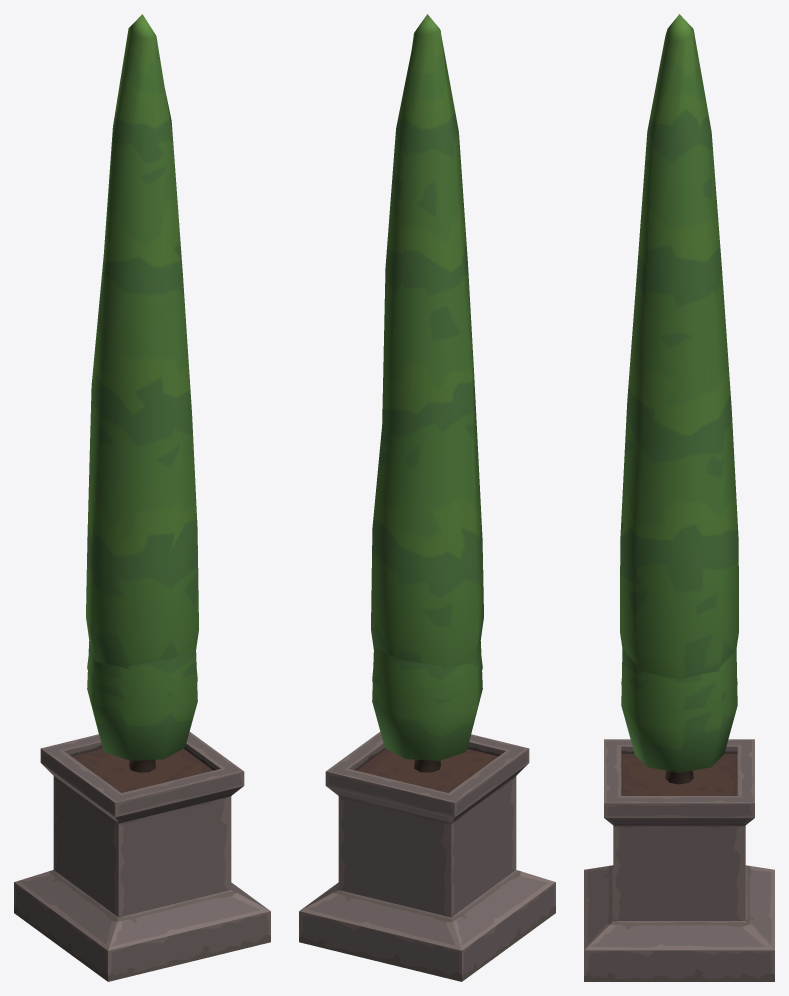
File: CypressTreePodium.fbx
3 renders of one model, left to right at view 1: azimuth 30°, elevation 25°; view 2: azimuth 150°, elevation 25°; view 3: azimuth 270°, elevation 25°, orthographic.
Visible parts, largest first — view 1: CypressTree2, CypressTreePodium, CypressTree3, CypressTree1; view 2: CypressTree2, CypressTreePodium, CypressTree3, CypressTree1; view 3: CypressTree2, CypressTreePodium, CypressTree3, CypressTree1.
Boxes of the visible parts, x1=… form: CypressTree2: x1=86, y1=14, x2=198, y2=772; CypressTreePodium: x1=14, y1=732, x2=270, y2=981; CypressTree3: x1=87, y1=641, x2=197, y2=760; CypressTree1: x1=87, y1=656, x2=197, y2=699; CypressTree2: x1=371, y1=14, x2=483, y2=772; CypressTreePodium: x1=299, y1=732, x2=555, y2=981; CypressTree3: x1=372, y1=641, x2=482, y2=760; CypressTree1: x1=372, y1=656, x2=482, y2=699; CypressTree2: x1=620, y1=14, x2=738, y2=784; CypressTreePodium: x1=584, y1=739, x2=774, y2=981; CypressTree3: x1=621, y1=649, x2=737, y2=772; CypressTree1: x1=621, y1=678, x2=737, y2=711.
Size of the model in its own units: 337 by 1807 by 337.
